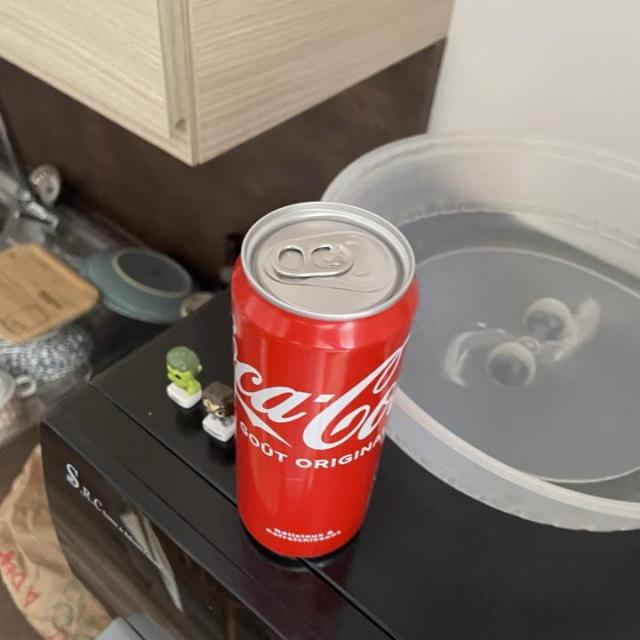recyclable: (232, 198, 424, 578)
